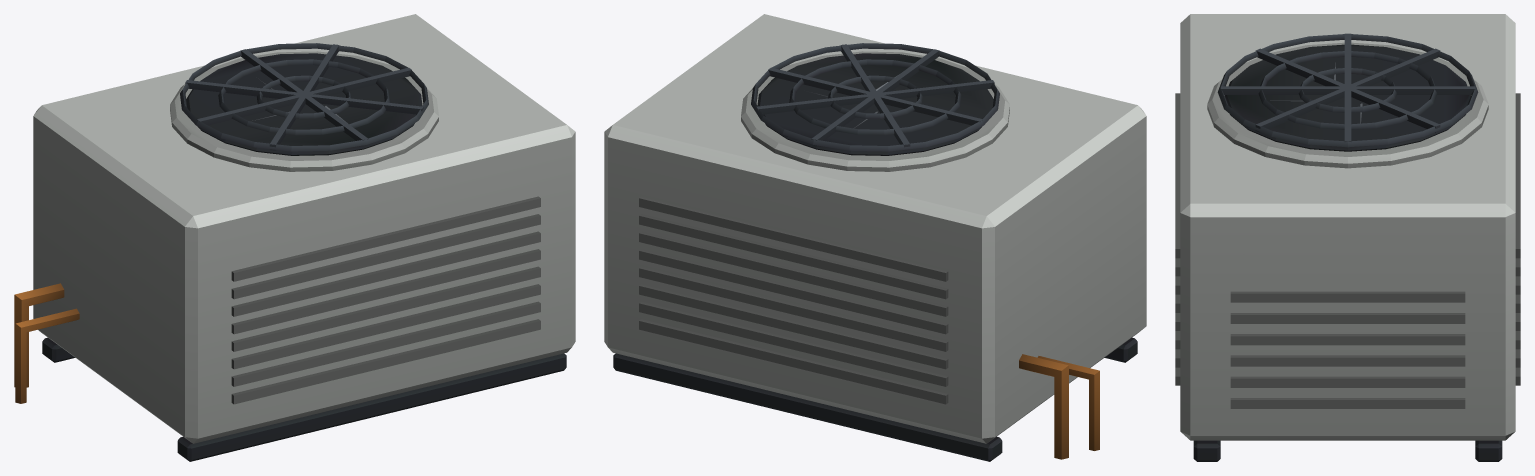
File: ac_unit.glb
3 views of the same model, side by side, from view 1: azimuth 30°, elevation 25°; view 2: azimuth 150°, elevation 25°; view 3: azimuth 270°, elevation 25° (orthographic). The views are drawn at different scales.
Parts seen in each view (by area): view 1: Body; view 2: Body; view 3: Body.
Boxes of the visible parts, x1=… form: Body: x1=14, y1=14, x2=575, y2=461; Body: x1=604, y1=14, x2=1146, y2=461; Body: x1=1175, y1=14, x2=1520, y2=461.
Size of the model in its own units: 1.63 by 0.921 by 1.03.
